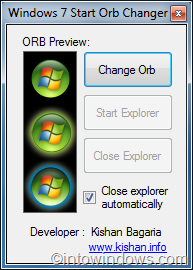close: (170, 5, 186, 21)
